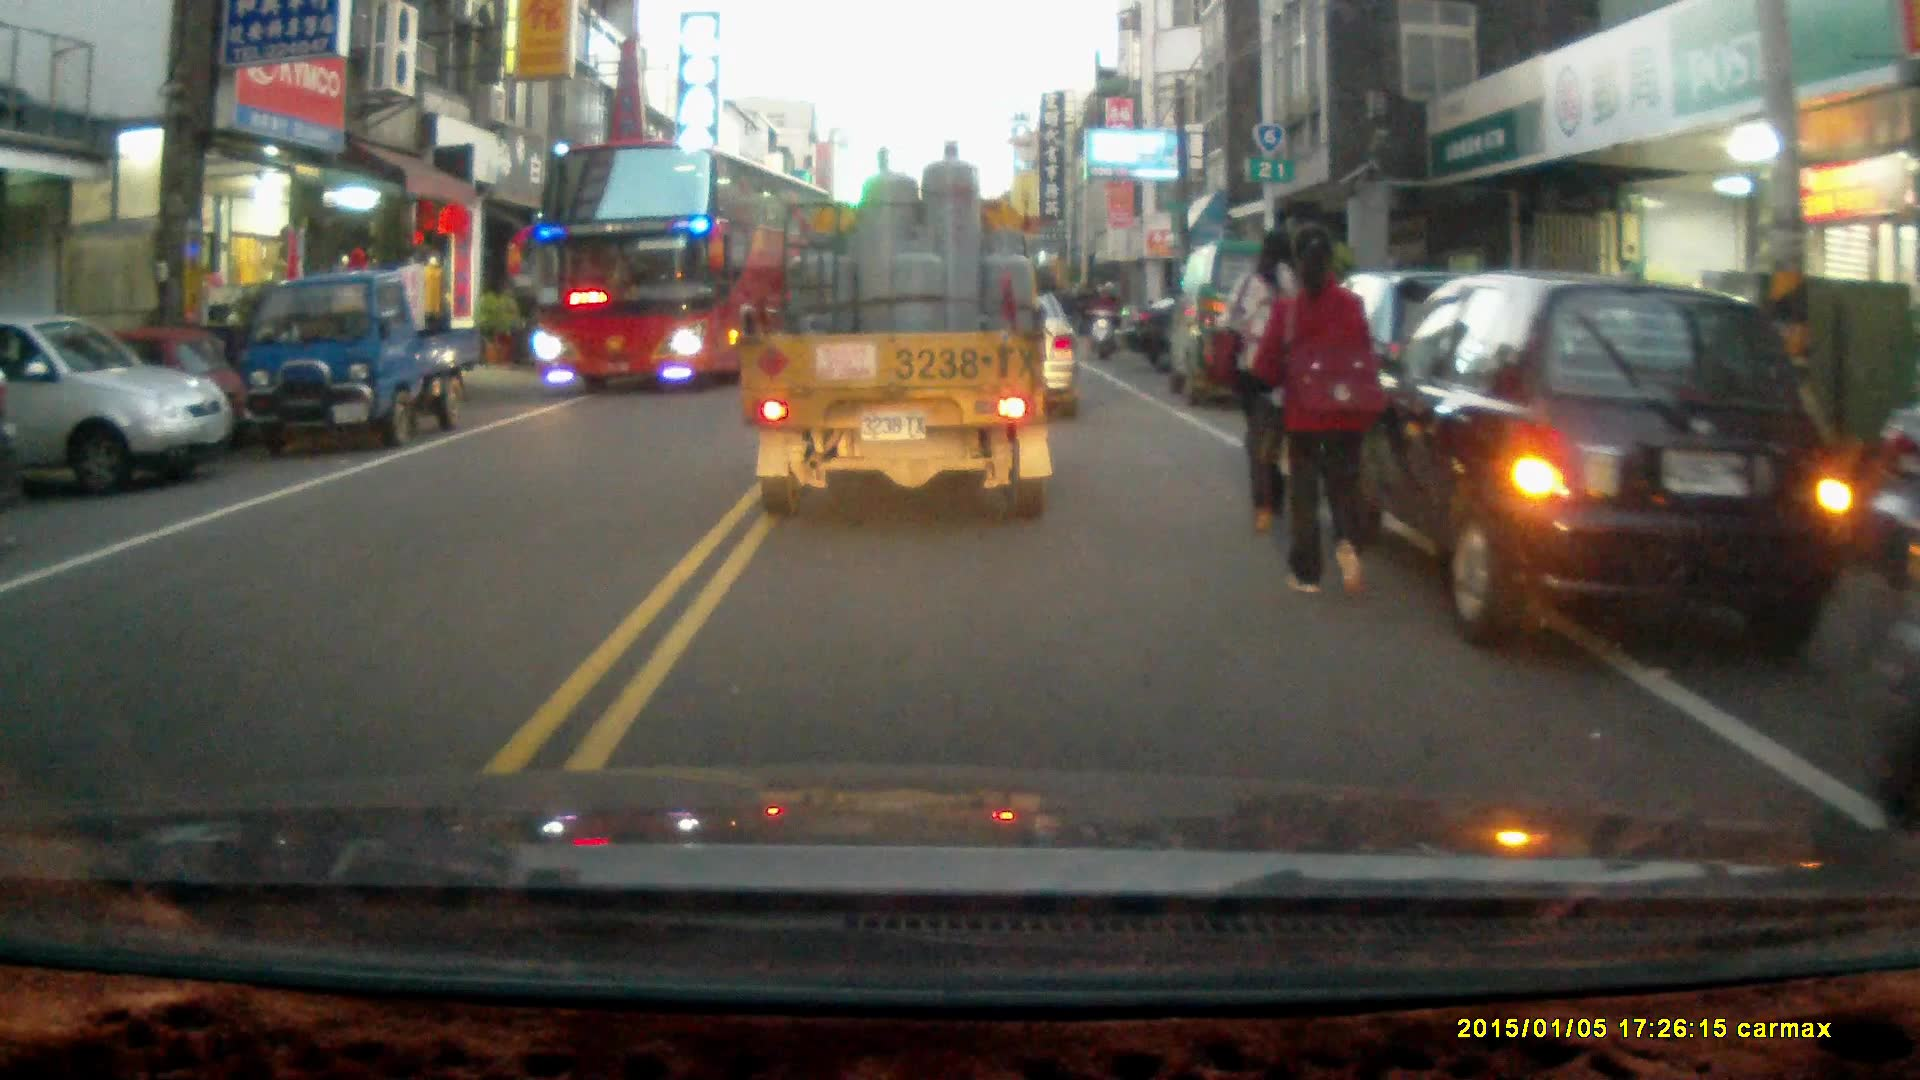pedestrian: (1253, 219, 1385, 602), (1222, 225, 1329, 536)
rider: (1087, 278, 1125, 363)
vehicle: (1344, 271, 1869, 662), (739, 142, 1062, 527), (529, 139, 834, 401), (1, 314, 232, 505), (239, 275, 483, 448), (1164, 240, 1376, 412)
